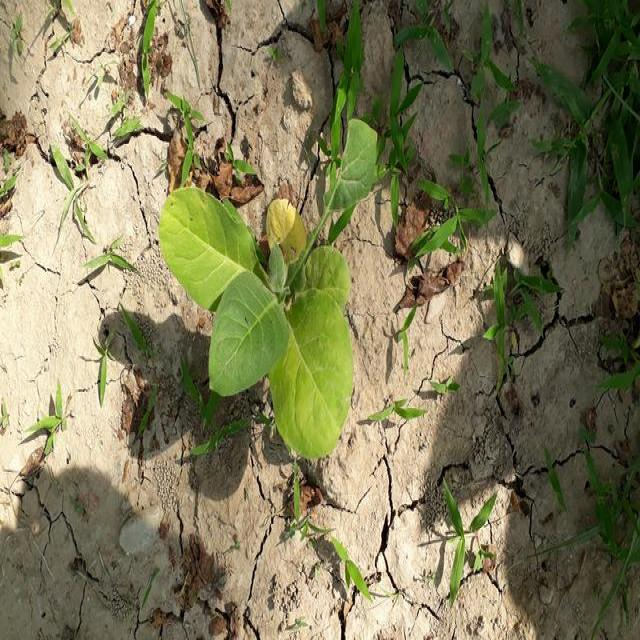crop: (152, 186, 363, 463)
